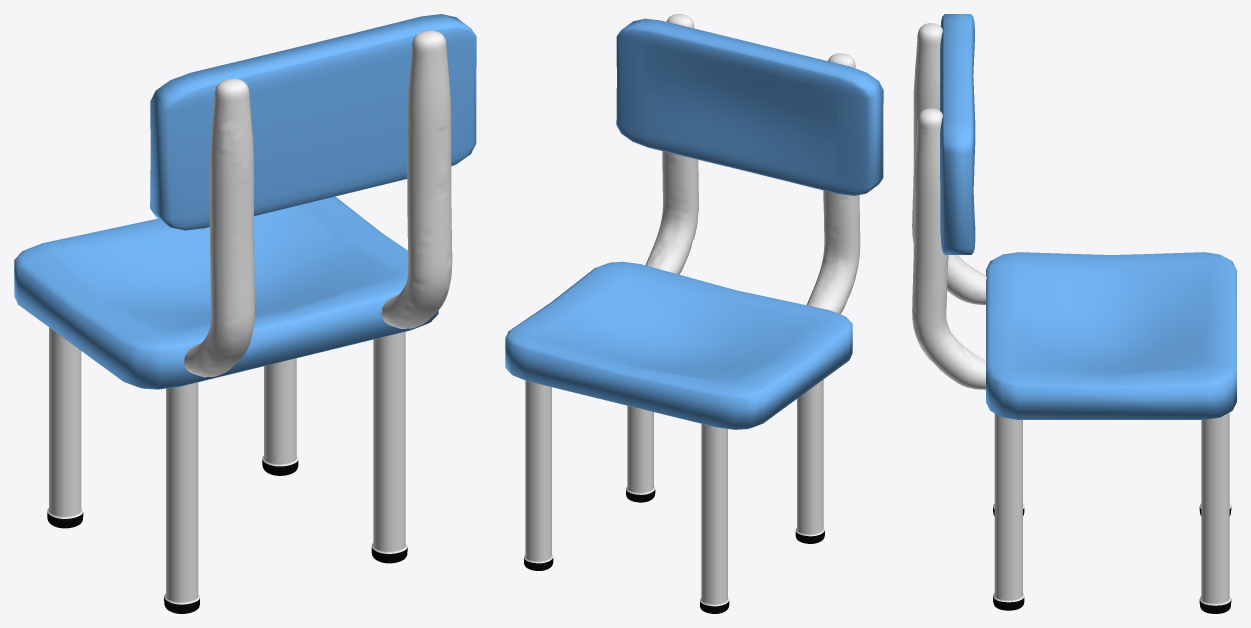
Rendered from blue_chair.glb.
3 views of the same model, side by side, from view 1: azimuth 30°, elevation 25°; view 2: azimuth 150°, elevation 25°; view 3: azimuth 270°, elevation 25° (orthographic). The views are drawn at different scales.
Parts seen in each view (by area): view 1: Cube.008_Material.002_0, Cube.009_Material.002_0, Plane.006_metal_0, Plane.007_metal_0, Plane.009_metal_0, Plane.008_metal_0, Plane.010_metal_0, Plane.011_metal_0; view 2: Cube.008_Material.002_0, Cube.009_Material.002_0, Plane.010_metal_0, Plane.011_metal_0, Plane.007_metal_0, Plane.006_metal_0, Plane.009_metal_0, Plane.008_metal_0; view 3: Cube.008_Material.002_0, Plane.006_metal_0, Cube.009_Material.002_0, Plane.011_metal_0, Plane.008_metal_0, Plane.007_metal_0.
Boxes of the visible parts, <box> form: Cube.008_Material.002_0: <box>14,196,438,389</box>; Cube.009_Material.002_0: <box>150,14,476,230</box>; Plane.006_metal_0: <box>381,30,452,328</box>; Plane.007_metal_0: <box>184,78,254,377</box>; Plane.009_metal_0: <box>164,382,199,604</box>; Plane.008_metal_0: <box>371,331,407,553</box>; Plane.010_metal_0: <box>47,327,82,518</box>; Plane.011_metal_0: <box>262,358,298,466</box>; Cube.008_Material.002_0: <box>505,261,852,429</box>; Cube.009_Material.002_0: <box>616,18,883,195</box>; Plane.010_metal_0: <box>700,424,729,606</box>; Plane.011_metal_0: <box>524,380,553,563</box>; Plane.007_metal_0: <box>806,53,860,314</box>; Plane.006_metal_0: <box>645,14,698,274</box>; Plane.009_metal_0: <box>795,379,824,536</box>; Plane.008_metal_0: <box>626,405,655,494</box>; Cube.008_Material.002_0: <box>986,252,1236,419</box>; Plane.006_metal_0: <box>912,108,986,389</box>; Cube.009_Material.002_0: <box>940,14,975,254</box>; Plane.011_metal_0: <box>1200,412,1230,605</box>; Plane.008_metal_0: <box>993,413,1024,602</box>; Plane.007_metal_0: <box>912,23,986,304</box>.
Size of the model in its own units: 1.8 by 3.1 by 1.85.
